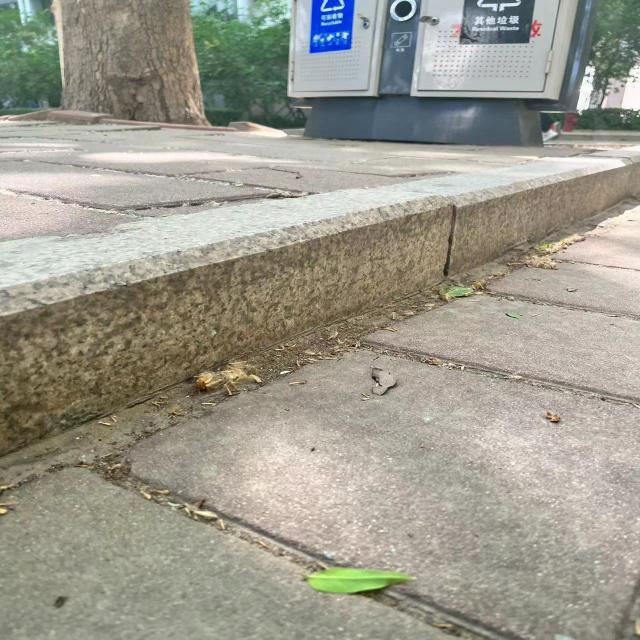bump: (0, 164, 640, 426)
